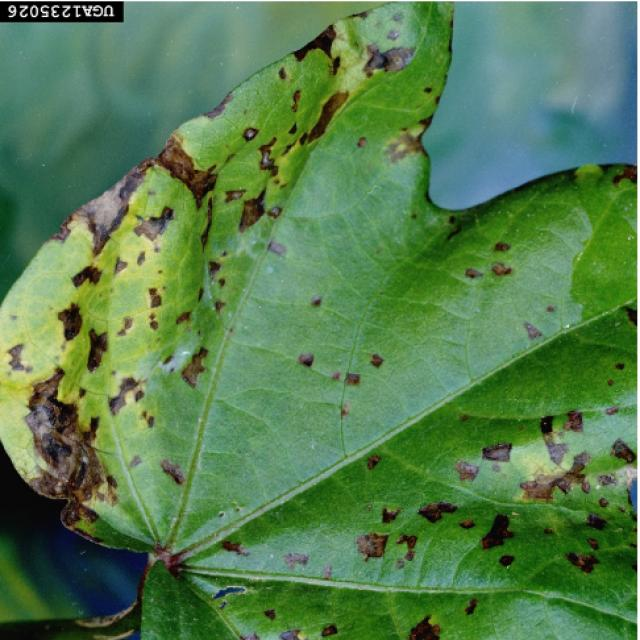Bacterial Blight: (25, 180, 304, 527)
